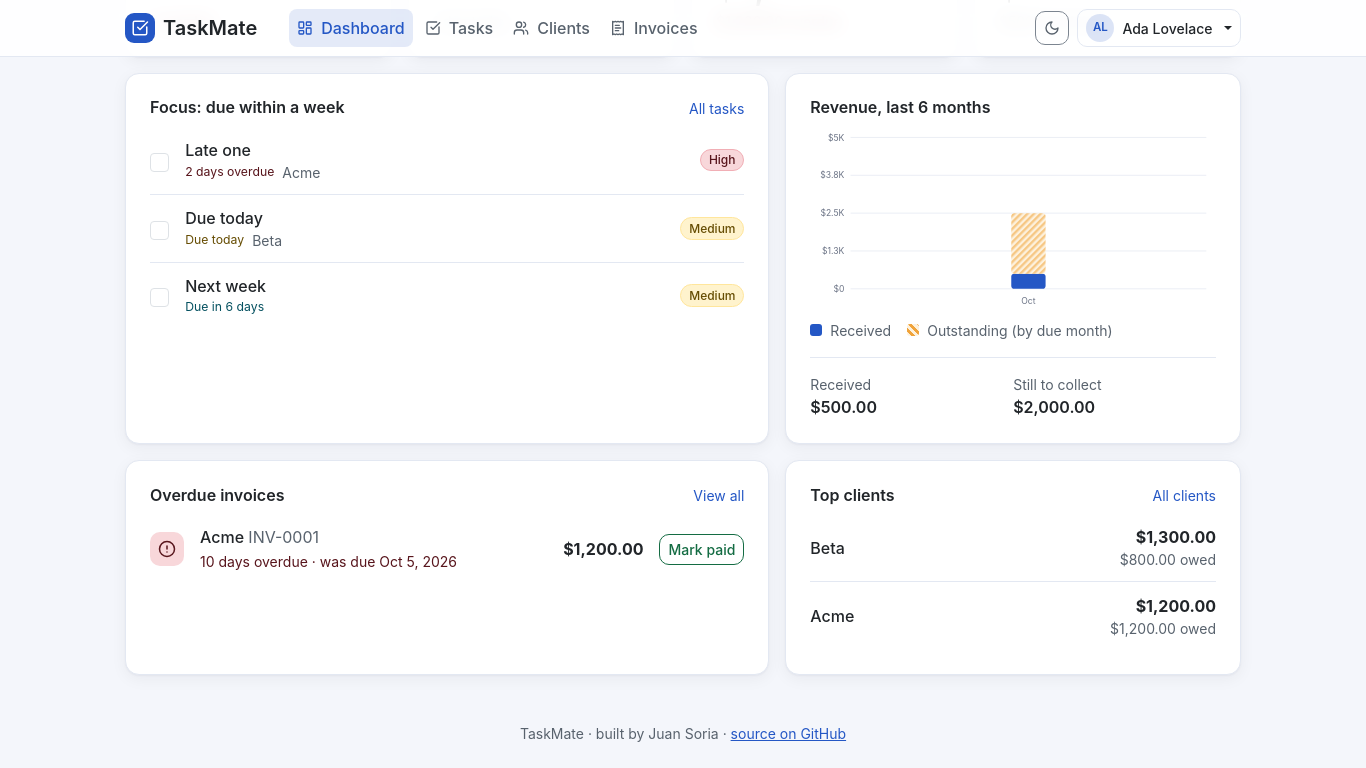
it: Dashboard › lists overdue invoices and marks one paid in place
(page scrolled)
Expected: the link "Acme INV-0001" is shown, [200,527,319,547]
Expected: the text "INV-0001" is shown, [248,527,319,547]
Click the button with aria-label "Mark invoice INV-0001 as paid" at {"x": 702, "y": 549}, box [660,534,744,565]
(page scrolled)
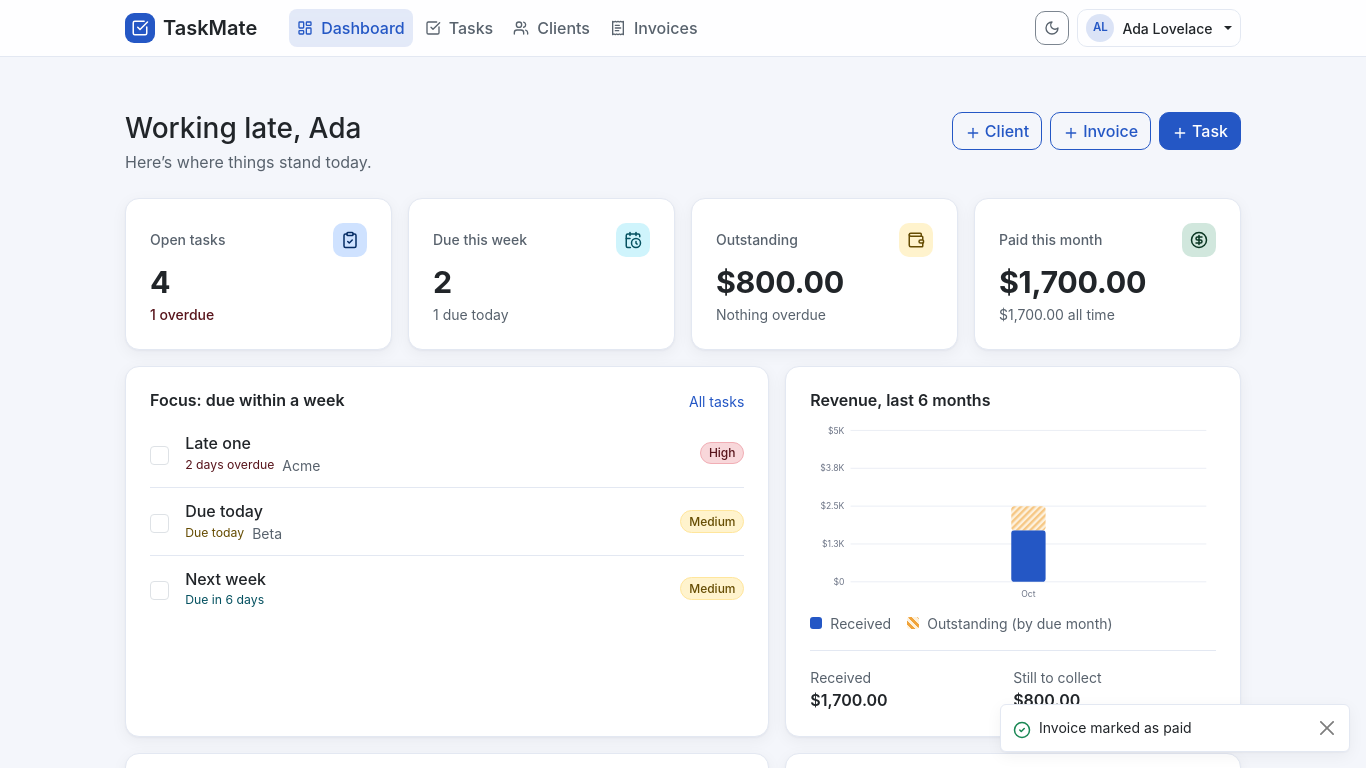
Now the text "Invoice marked as paid" is shown, box [1039,719,1192,736]
Now the element with test id "stat-outstanding" shows "$800.00", box [716,264,844,300]
Now the element with test id "stat-outstanding" shows "Nothing overdue", box [716,306,826,322]
